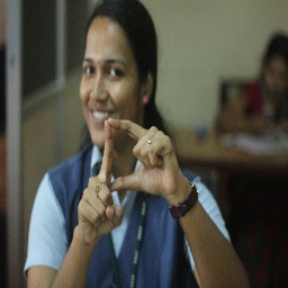D: (88, 113, 166, 209)
